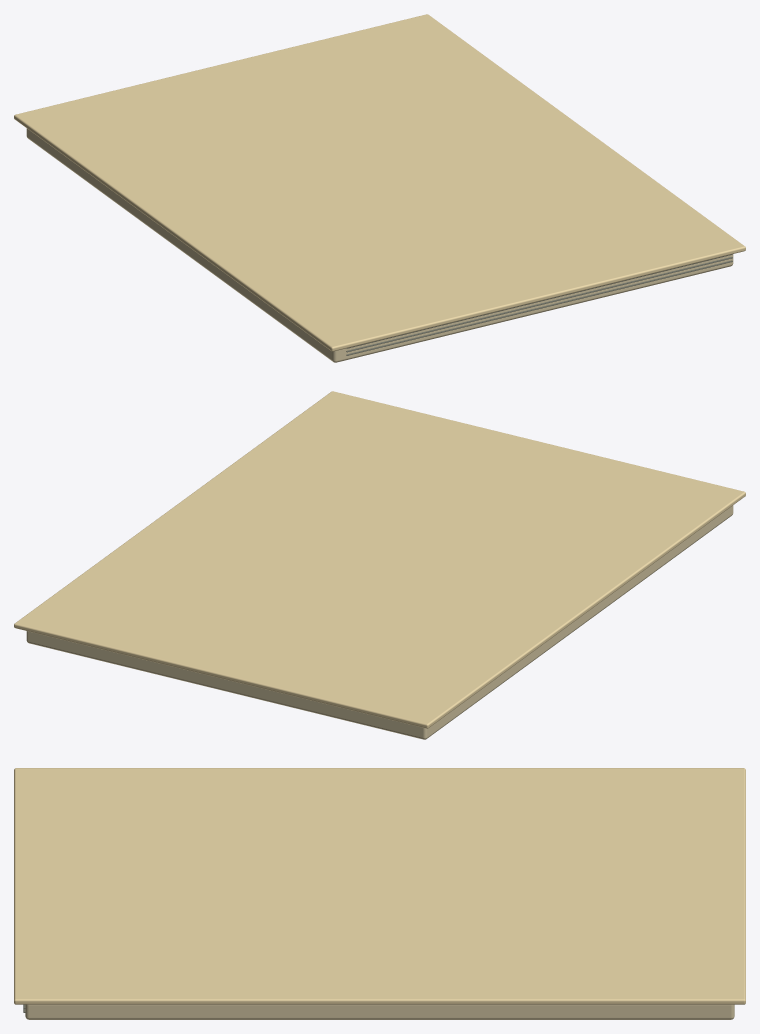
File: manual.glb
The picture shows the model from 3 angles, top to bottom: view 1: azimuth 30°, elevation 25°; view 2: azimuth 150°, elevation 25°; view 3: azimuth 270°, elevation 25°; orthographic projection. The views are drawn at different scales.
Visible parts, largest first — view 1: manual_cover, static_e6d4a6, static_ded1ac, static_75776b; view 2: manual_cover, static_e6d4a6, static_ded1ac; view 3: manual_cover, static_e6d4a6, static_ded1ac.
Boxes of the visible parts, <box> form: manual_cover: <box>29,19,730,339</box>; static_e6d4a6: <box>14,14,745,351</box>; static_ded1ac: <box>26,128,733,362</box>; static_75776b: <box>346,254,732,355</box>; manual_cover: <box>29,396,730,716</box>; static_e6d4a6: <box>14,391,745,728</box>; static_ded1ac: <box>26,505,733,739</box>; manual_cover: <box>27,772,732,993</box>; static_e6d4a6: <box>14,768,745,1004</box>; static_ded1ac: <box>25,1004,734,1019</box>.
Bounding box in the file's own units: 1.45 × 0.0765 × 1.93.
